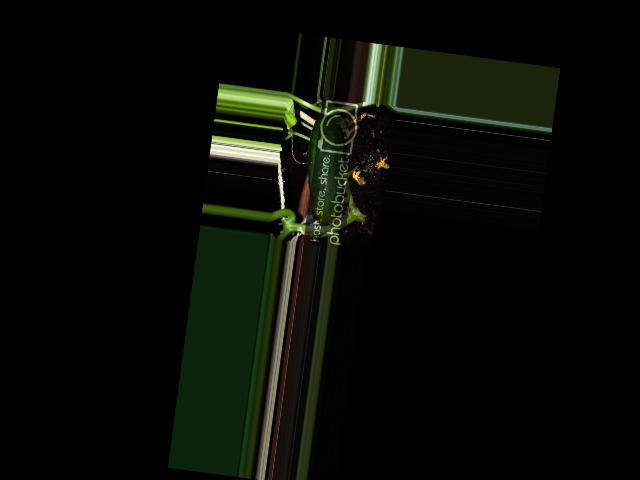cucumber: (299, 114, 352, 224)
